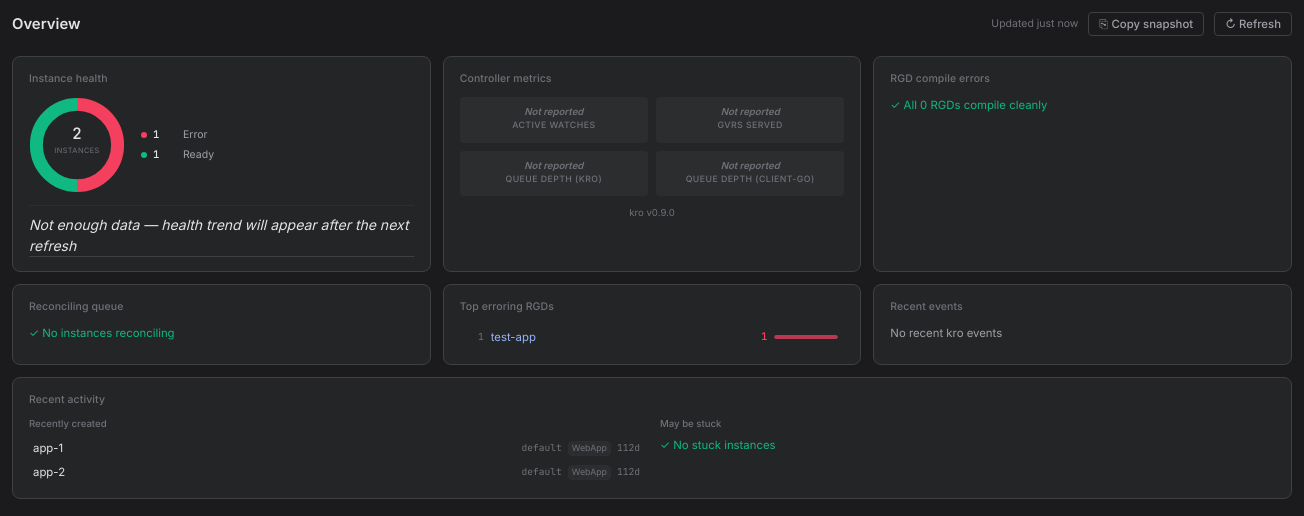
Test: Copy health snapshot button (spec issue-720) › clicking Copy snapshot shows Copied! feedback and produces valid JSON
The width and height of the screenshot is (1304, 516).
Click the button with test id "copy-snapshot-btn" at {"x": 1146, "y": 24}, box [1088,12,1204,36]
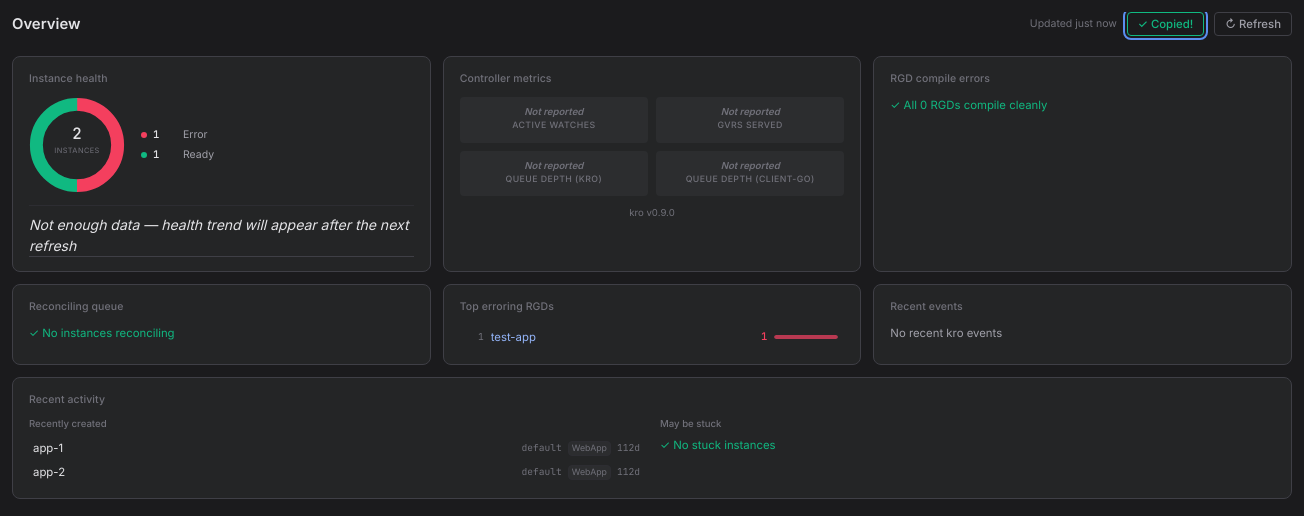
Now the button with test id "copy-snapshot-btn" shows "Copied", box [1127,12,1204,36]
